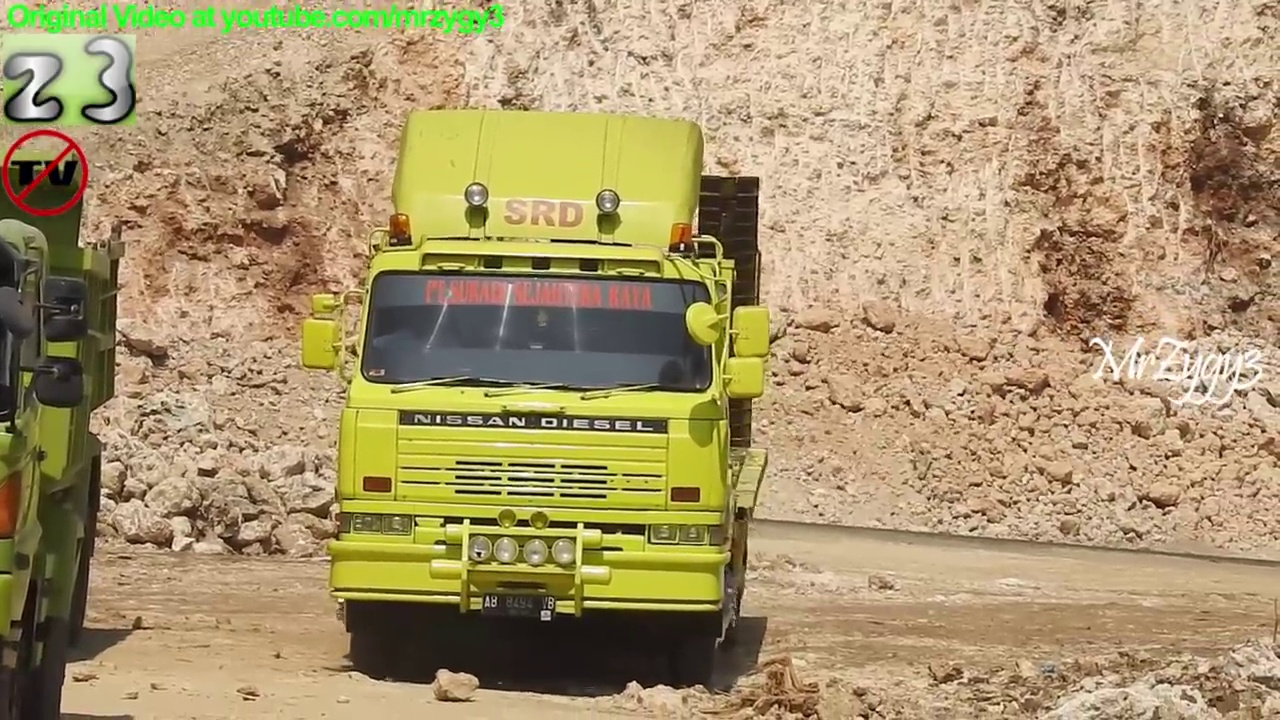truck: (296, 105, 779, 693), (1, 138, 133, 720)
